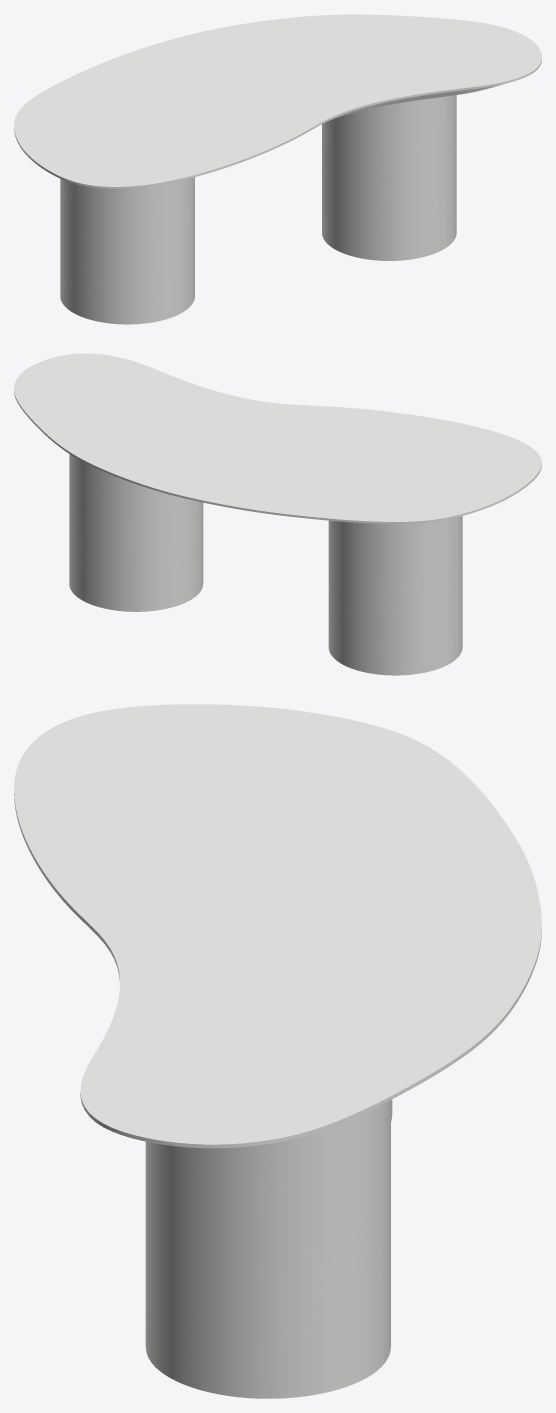
Rendered from purewhite_leaf1_facet_stream.glb.
The picture shows the model from 3 angles, top to bottom: view 1: azimuth 30°, elevation 25°; view 2: azimuth 150°, elevation 25°; view 3: azimuth 270°, elevation 25°; orthographic projection. The views are drawn at different scales.
Visible parts, largest first — view 1: facet_leaf1, stream; view 2: facet_leaf1, stream; view 3: facet_leaf1, stream.
Boxes of the visible parts, bbox=[...] form: facet_leaf1: bbox=[14, 14, 541, 188]; stream: bbox=[60, 95, 456, 324]; facet_leaf1: bbox=[14, 353, 541, 523]; stream: bbox=[69, 454, 462, 675]; facet_leaf1: bbox=[14, 704, 541, 1148]; stream: bbox=[145, 1099, 392, 1398].
Bounding box in the file's own units: 7.5 × 2.5 × 3.8.
1 material, 1 textured.
